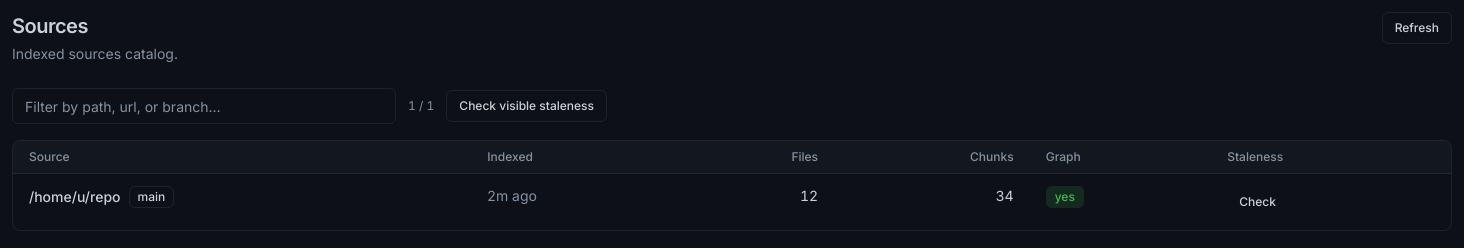
Test: SourcesPage › does NOT fetch staleness on load; fetches lazily on Check click
This screenshot has width=1464, height=248.
Expected: the text "/home/u/repo" is shown, x1=29 y1=187 x2=120 y2=207
Click the button "Check" at (1258, 202), box x1=1227 y1=186 x2=1288 y2=218
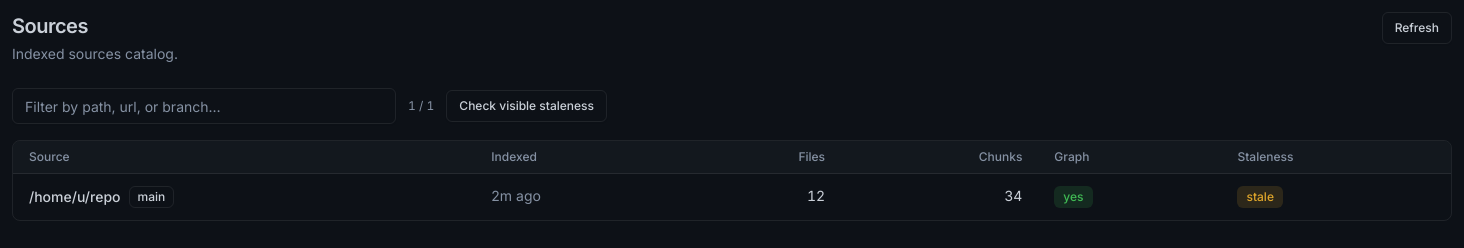
Expected: the text "stale" is shown, x1=1237 y1=186 x2=1283 y2=208
